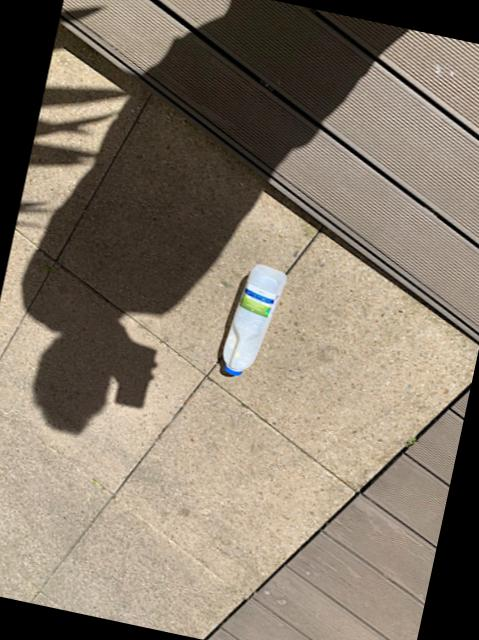plastic: (223, 266, 286, 377)
